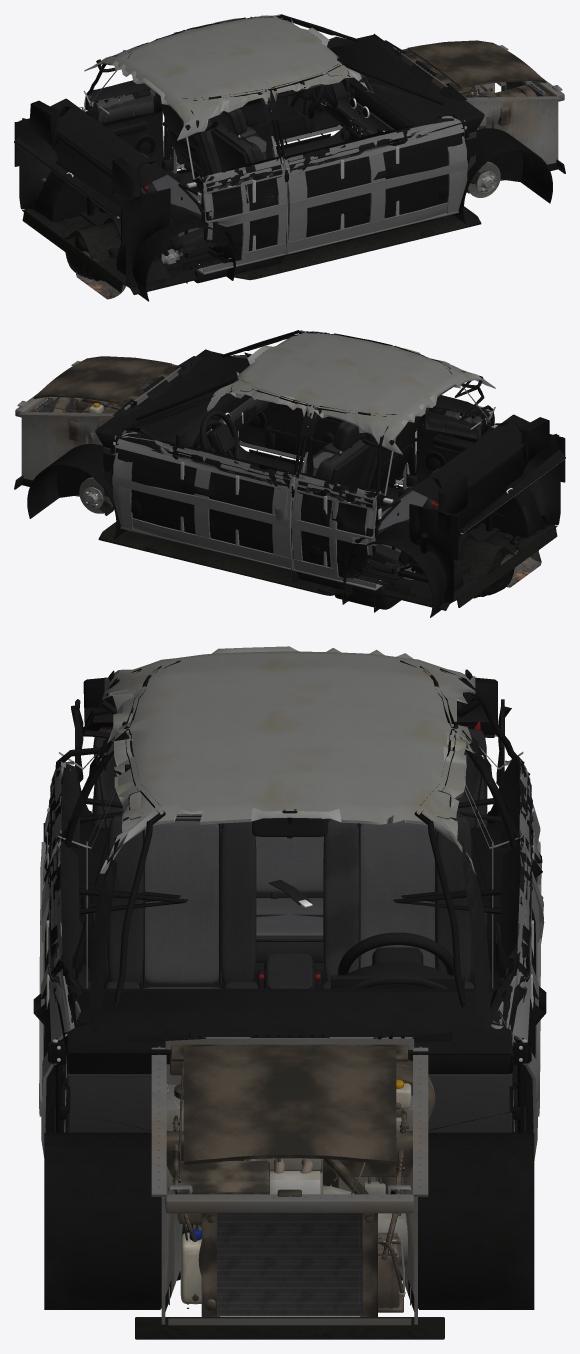
File: hatch-redondo-5p_completo.glb
3 views of the same model, one above another, from view 1: azimuth 30°, elevation 25°; view 2: azimuth 150°, elevation 25°; view 3: azimuth 270°, elevation 25° (orthographic). The views are drawn at different scales.
Parts seen in each view (by area): view 1: interior_forro_teto, door_card_fr_chapa, door_card_fr, interior_painel, interior_portamalas_carpete, under_assoalho, door_card_rr_chapa, door_card_rr, hood_manta, interior_banco_traseiro, door_card_rl, engine_paralama_interno_dir (+23 smaller); view 2: interior_forro_teto, door_card_fl_chapa, door_card_fl, interior_painel, interior_portamalas_carpete, under_assoalho, door_card_rl, door_card_rl_chapa, hood_manta, interior_banco_traseiro, engine_paralama_interno_esq, door_card_rr (+25 smaller); view 3: interior_forro_teto, interior_painel, hood_manta, interior_banco_dianteiro_dir, under_caixa_roda_fr, under_caixa_roda_fl, engine_radiador, interior_banco_dianteiro_esq, interior_banco_traseiro, engine_travessa, engine_motor, interior_acabamento_colunas (+28 smaller).
Part boxes in pixels (x1,y1,x2,y2): interior_forro_teto: [84, 14, 374, 140]; door_card_fr_chapa: [284, 116, 467, 254]; door_card_fr: [285, 113, 462, 237]; interior_painel: [318, 33, 484, 180]; interior_portamalas_carpete: [14, 118, 170, 287]; under_assoalho: [62, 206, 481, 294]; door_card_rr_chapa: [197, 157, 288, 274]; door_card_rr: [199, 156, 282, 263]; hood_manta: [407, 40, 546, 89]; interior_banco_traseiro: [53, 132, 216, 264]; door_card_rl: [89, 80, 163, 166]; engine_paralama_interno_dir: [465, 91, 560, 180]; interior_forro_teto: [207, 330, 495, 454]; door_card_fl_chapa: [112, 430, 295, 570]; door_card_fl: [117, 428, 294, 553]; interior_painel: [95, 349, 269, 496]; interior_portamalas_carpete: [398, 433, 565, 602]; under_assoalho: [98, 522, 556, 610]; door_card_rl: [297, 472, 380, 577]; door_card_rl_chapa: [291, 473, 382, 590]; hood_manta: [33, 356, 172, 405]; interior_banco_traseiro: [363, 448, 528, 580]; engine_paralama_interno_esq: [19, 407, 114, 496]; door_card_rr: [416, 395, 490, 482]; interior_forro_teto: [99, 646, 481, 875]; interior_painel: [56, 962, 519, 1132]; hood_manta: [183, 1045, 396, 1165]; interior_banco_dianteiro_dir: [105, 812, 265, 988]; under_caixa_roda_fr: [44, 1132, 161, 1309]; under_caixa_roda_fl: [418, 1132, 534, 1309]; engine_radiador: [201, 1213, 377, 1316]; interior_banco_dianteiro_esq: [314, 812, 474, 988]; interior_banco_traseiro: [92, 722, 487, 988]; engine_travessa: [165, 1131, 414, 1325]; engine_motor: [176, 1158, 407, 1268]; interior_acabamento_colunas: [67, 721, 523, 1031].
Size of what is drawn, in the model's own units: 3.56 by 1.48 by 1.69.
Materials: 55 (55 with a texture image).
